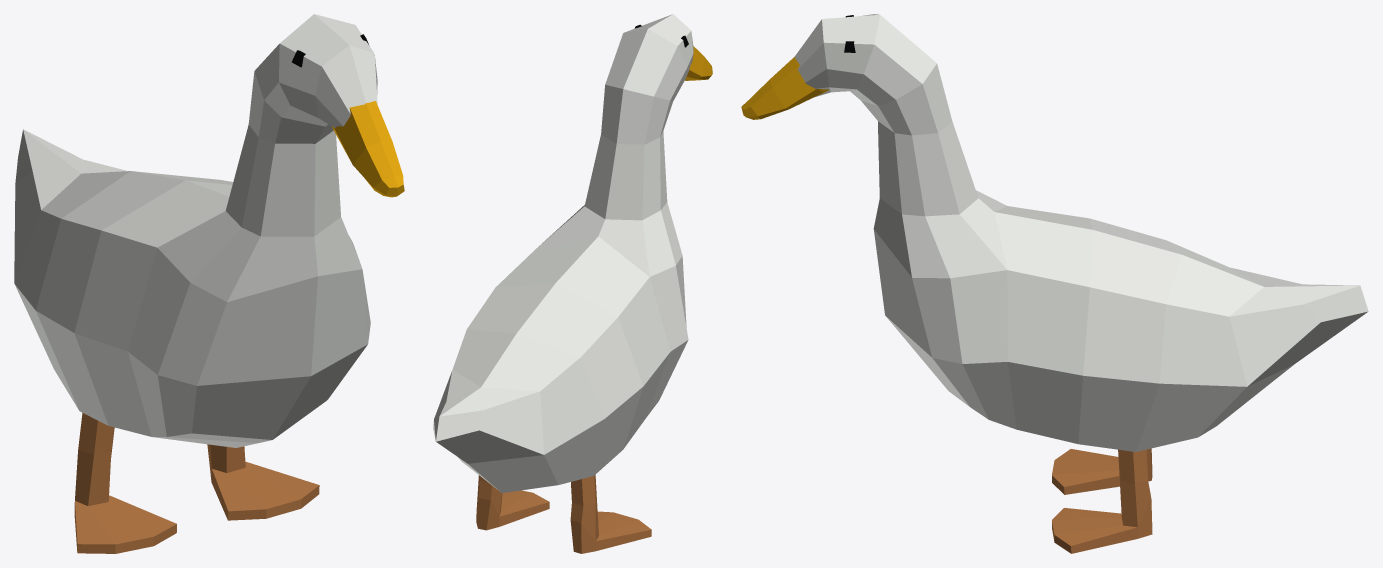
File: e8d62357-1f2e-440d-ab86-da2aceda4085.glb
The picture shows the model from 3 angles, left to right: view 1: azimuth 30°, elevation 25°; view 2: azimuth 150°, elevation 25°; view 3: azimuth 270°, elevation 25°; orthographic projection. The views are drawn at different scales.
Parts seen in each view (by area): view 1: Geo_Duck; view 2: Geo_Duck; view 3: Geo_Duck.
Part boxes in pixels (<box>): Geo_Duck: <box>14,14,404,553</box>; Geo_Duck: <box>433,14,712,553</box>; Geo_Duck: <box>741,14,1368,553</box>.
Size of the model in its own units: 21.5 by 50.48 by 58.51.
1 material, 1 textured.
